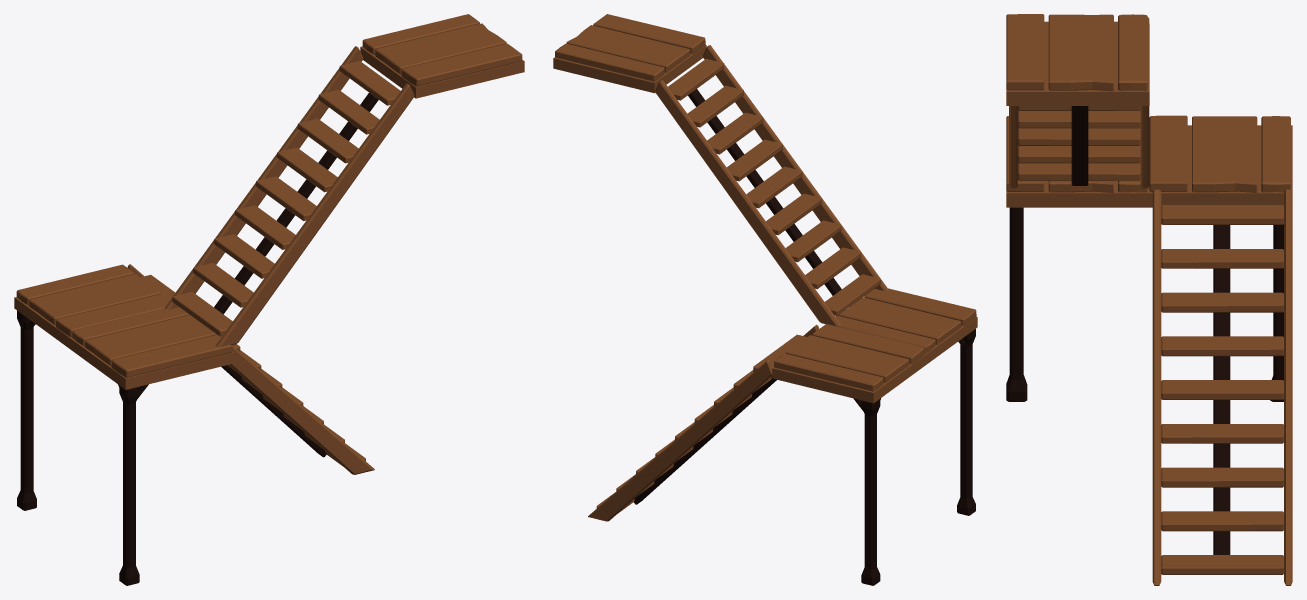
File: ww_stairs_d.glb
3 views of the same model, side by side, from view 1: azimuth 30°, elevation 25°; view 2: azimuth 150°, elevation 25°; view 3: azimuth 270°, elevation 25° (orthographic). The views are drawn at different scales.
Visible parts, largest first — view 1: Stairs_D; view 2: Stairs_D; view 3: Stairs_D.
Boxes of the visible parts, x1,y1,x2,y2 form: Stairs_D: [14, 14, 524, 585]; Stairs_D: [553, 14, 977, 585]; Stairs_D: [1006, 14, 1292, 585].
Size of the model in its own units: 6.76 by 7.08 by 3.27.
